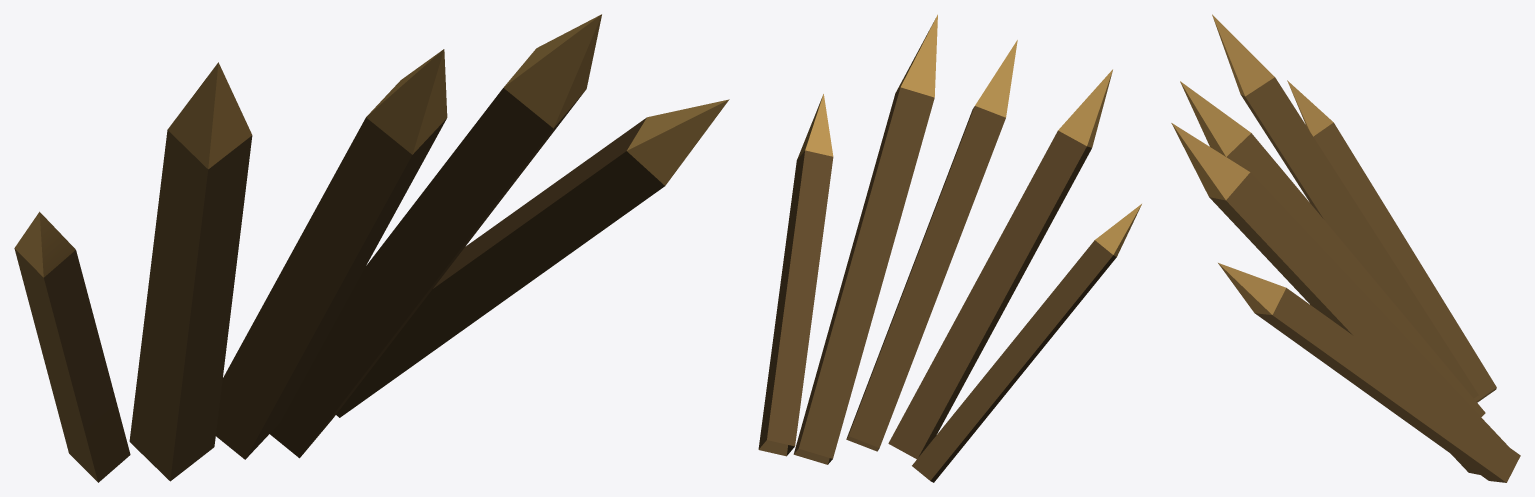
The model's file is SpikeFence_02.fbx.
The picture shows the model from 3 angles, left to right: view 1: azimuth 30°, elevation 25°; view 2: azimuth 150°, elevation 25°; view 3: azimuth 270°, elevation 25°; orthographic projection. The views are drawn at different scales.
Visible parts, largest first — view 1: SpikeFence_02; view 2: SpikeFence_02; view 3: SpikeFence_02.
Part boxes in pixels (<box>): SpikeFence_02: <box>14,14,729,482</box>; SpikeFence_02: <box>758,14,1141,482</box>; SpikeFence_02: <box>1171,14,1520,482</box>.
Bounding box in the file's own units: 3.41 × 2.74 × 3.22.
